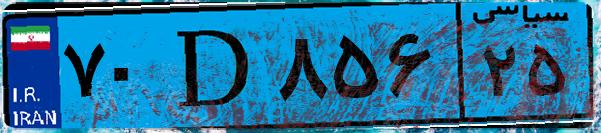0: (110, 28, 158, 98)
2: (475, 38, 525, 113)
5: (330, 28, 385, 110), (525, 38, 570, 115)
6: (385, 28, 445, 110)
7: (57, 26, 110, 100)
8: (270, 28, 330, 110)
D: (158, 12, 270, 120)
